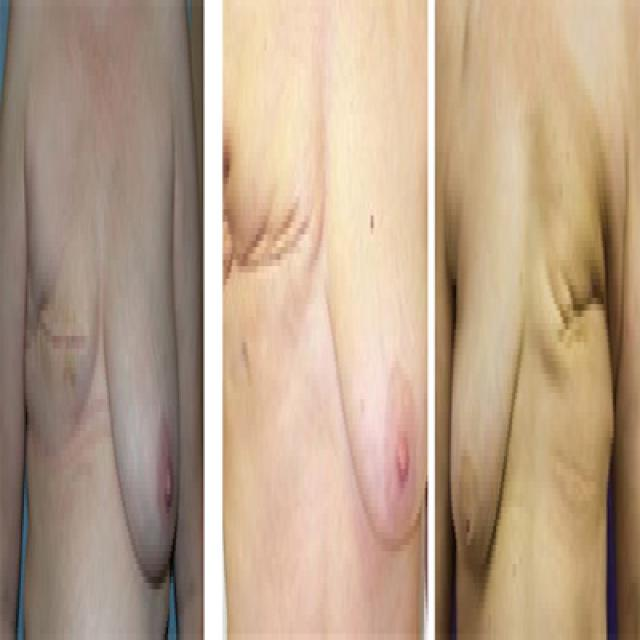Seno herido: (223, 38, 326, 401), (528, 138, 625, 436), (21, 151, 101, 492)
Seno ileso: (327, 93, 428, 585), (102, 132, 183, 613), (447, 138, 526, 606)
